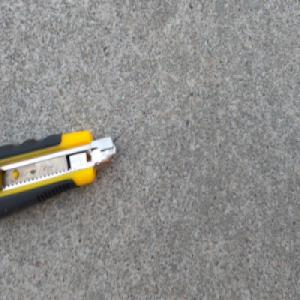Cutter: (0, 126, 117, 223)
